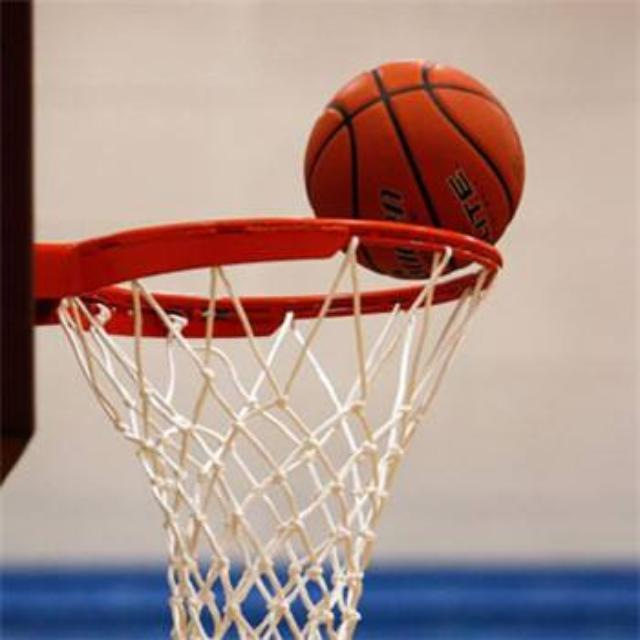basketball: (306, 61, 526, 281)
rim: (62, 220, 500, 640)
